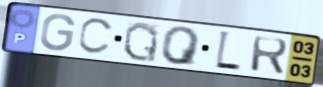C: (76, 17, 117, 57)
G: (38, 12, 77, 53)
L: (212, 28, 243, 74)
Q: (160, 26, 203, 68), (121, 20, 161, 64)
R: (249, 35, 291, 77)
